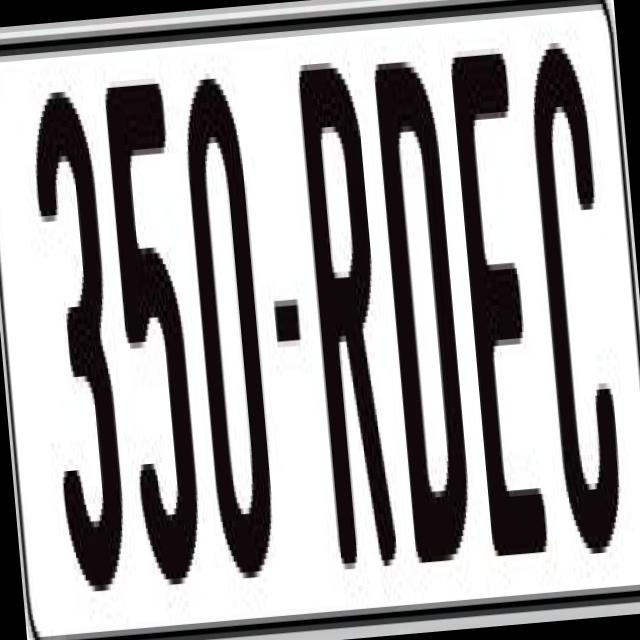0: (175, 59, 282, 574)
3: (27, 78, 132, 604)
5: (98, 65, 206, 587)
C: (522, 46, 628, 573)
D: (373, 59, 478, 580)
E: (444, 35, 550, 539)
R: (293, 42, 404, 587)
